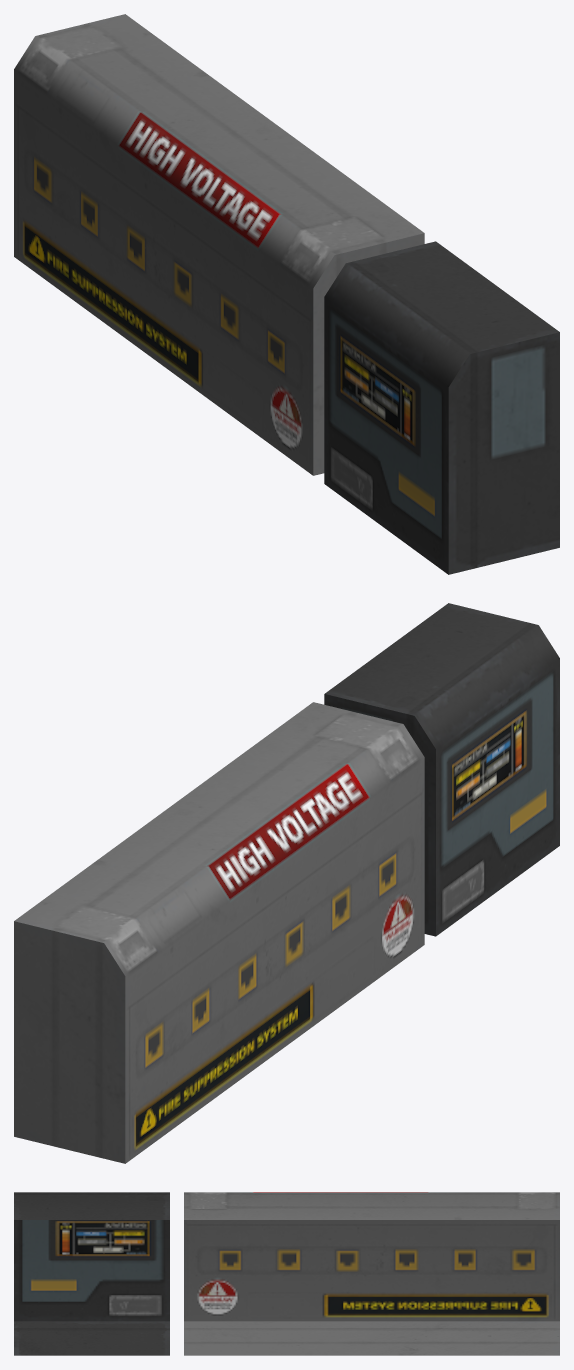
Rendered from CP_Meter_Electric_02.fbx.
3 renders of one model, top to bottom at view 1: azimuth 30°, elevation 25°; view 2: azimuth 150°, elevation 25°; view 3: azimuth 270°, elevation 25°, orthographic. The views are drawn at different scales.
Visible parts, largest first — view 1: CP_Meter_Electric_02; view 2: CP_Meter_Electric_02; view 3: CP_Meter_Electric_02.
Boxes of the visible parts, left/top/right/bottom form: CP_Meter_Electric_02: left=14, top=14, right=559, bottom=574; CP_Meter_Electric_02: left=14, top=603, right=559, bottom=1163; CP_Meter_Electric_02: left=14, top=1192, right=559, bottom=1355.
Size of the model in its own units: 13.85 by 25.61 by 93.59.
